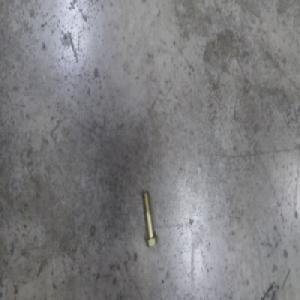Bolt: (141, 191, 158, 248)
